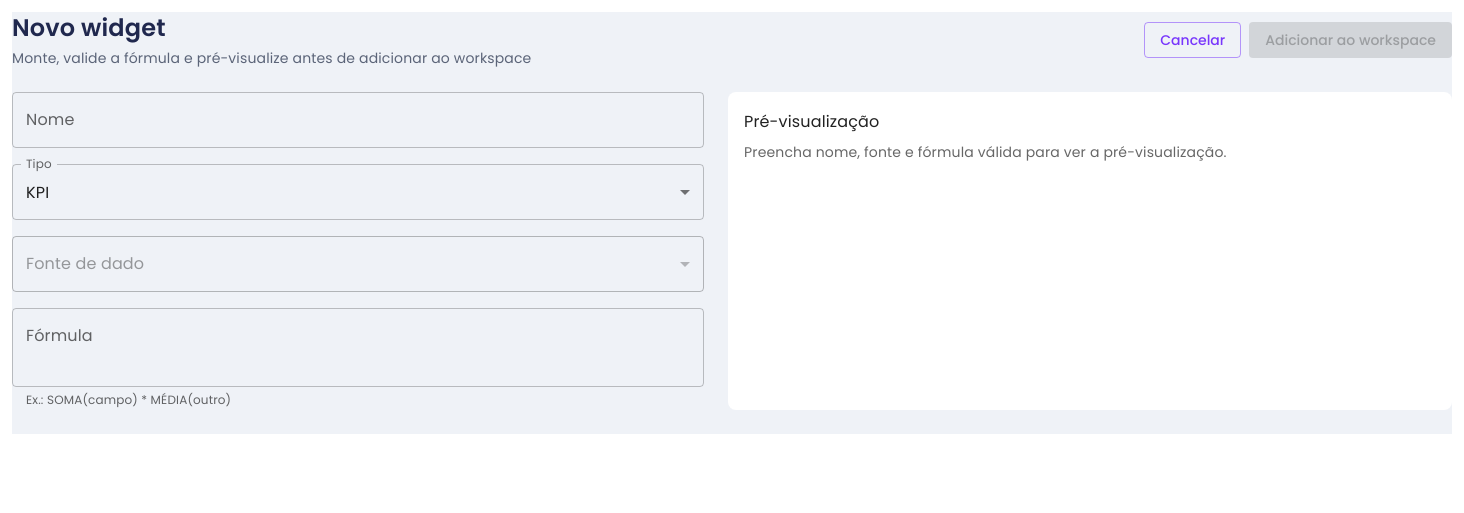
it: WidgetBuilderPage › shows submit error from API
Check: the text box labelled "Fórmula" is shown, box top-left (26, 324), bottom-right (690, 370)
Type "KPI Vendas" into the field labelled "Nome".
click(358, 120); type("KPI Vendas")  # box top-left (12, 92), bottom-right (704, 148)
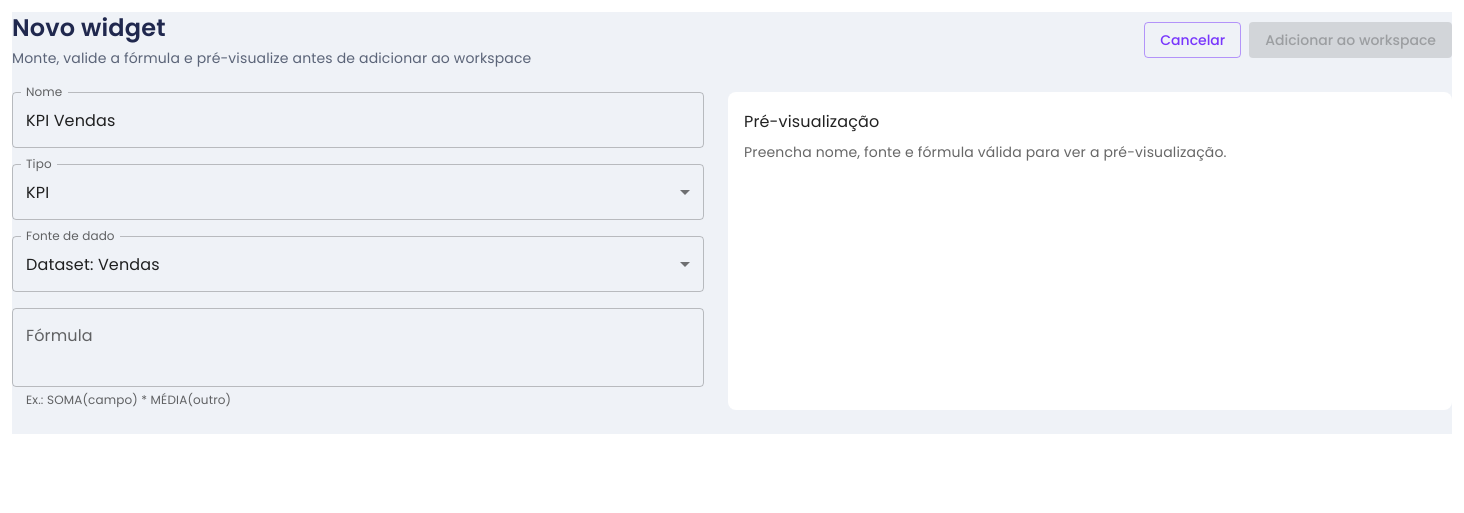
Type "SOMA(valor)" into the text box labelled "Fórmula".
click(358, 348); type("SOMA(valor)")  # box top-left (26, 324), bottom-right (690, 370)
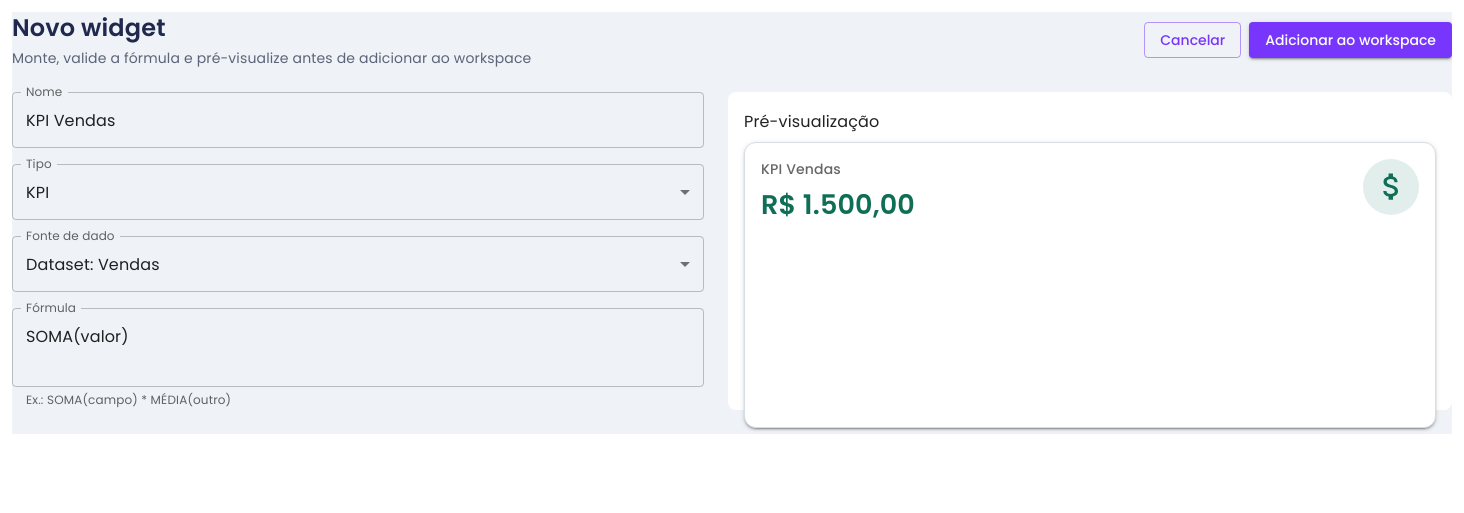
Click the button "Adicionar ao workspace".
click(1351, 40)  # box top-left (1249, 22), bottom-right (1452, 58)
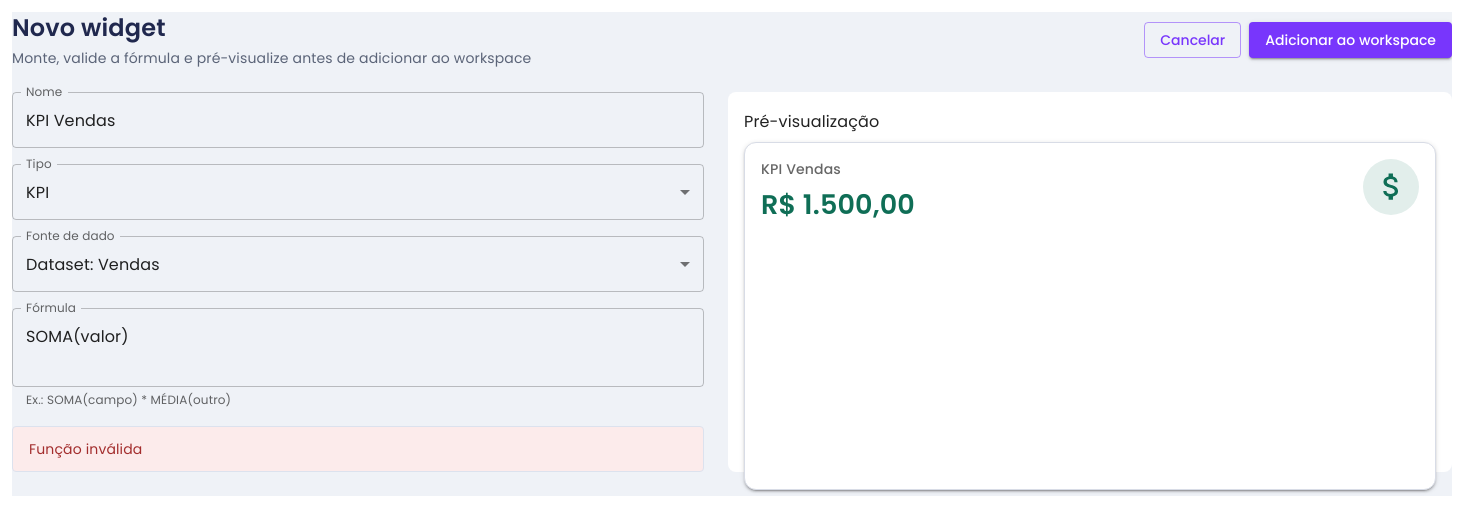
Check: the text "Função inválida" is shown, box top-left (29, 439), bottom-right (142, 459)
